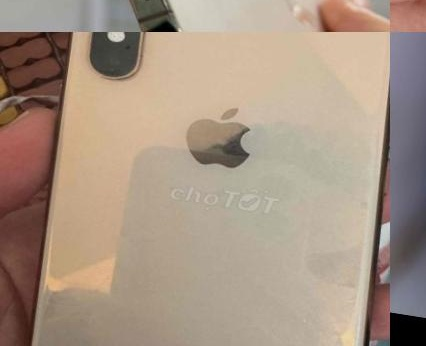scratch: (128, 32, 161, 72), (296, 309, 317, 335)
